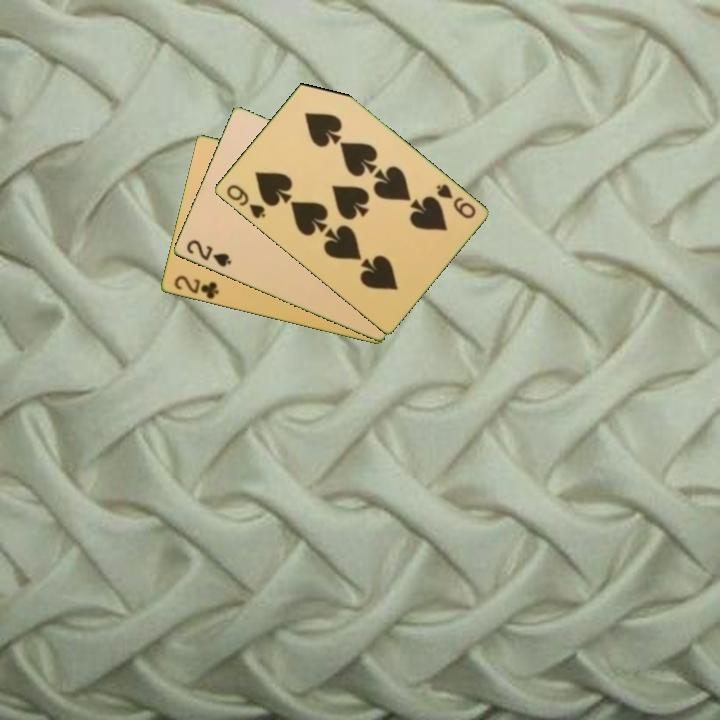2c: (170, 272, 222, 302)
2s: (183, 236, 234, 270)
9s: (432, 180, 478, 222), (223, 181, 268, 222)
